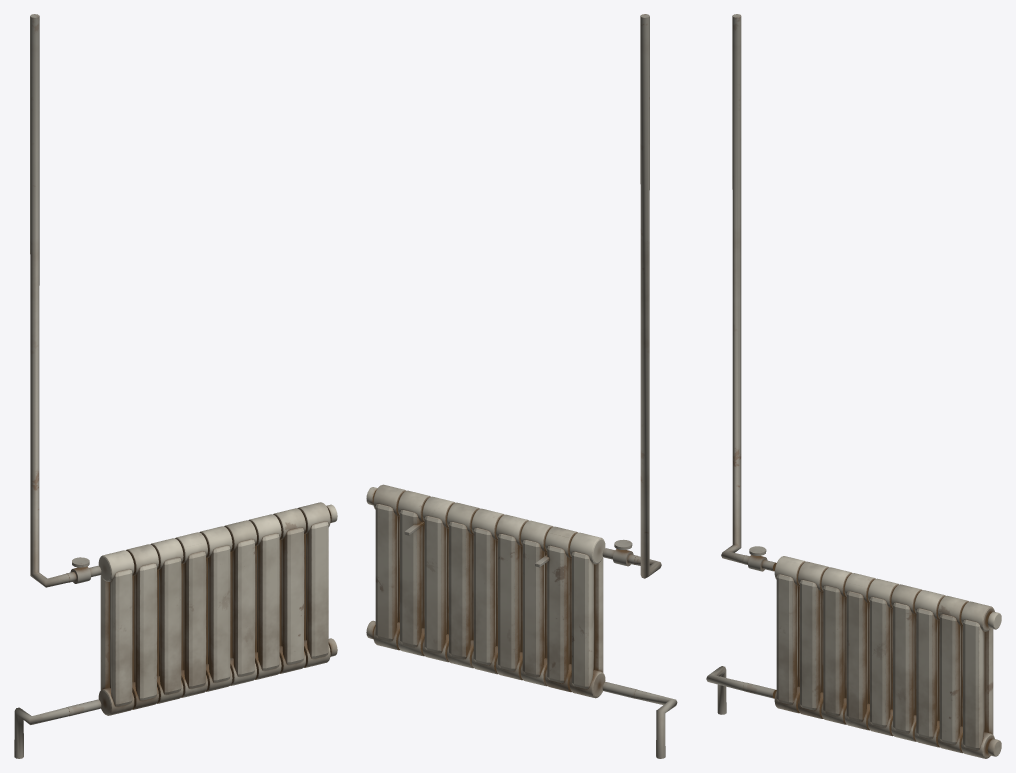
File: Radiator_Cast.fbx
3 renders of one model, left to right at view 1: azimuth 30°, elevation 25°; view 2: azimuth 150°, elevation 25°; view 3: azimuth 330°, elevation 25°, orthographic. The views are drawn at different scales.
Parts seen in each view (by area): view 1: Radiator_Cast_Mesh; view 2: Radiator_Cast_Mesh; view 3: Radiator_Cast_Mesh.
Part boxes in pixels (bbox=[...]): Radiator_Cast_Mesh: bbox=[14, 14, 337, 758]; Radiator_Cast_Mesh: bbox=[366, 14, 677, 758]; Radiator_Cast_Mesh: bbox=[706, 14, 1001, 758].
Size of the model in its own units: 1.17 by 2.7 by 0.169.
